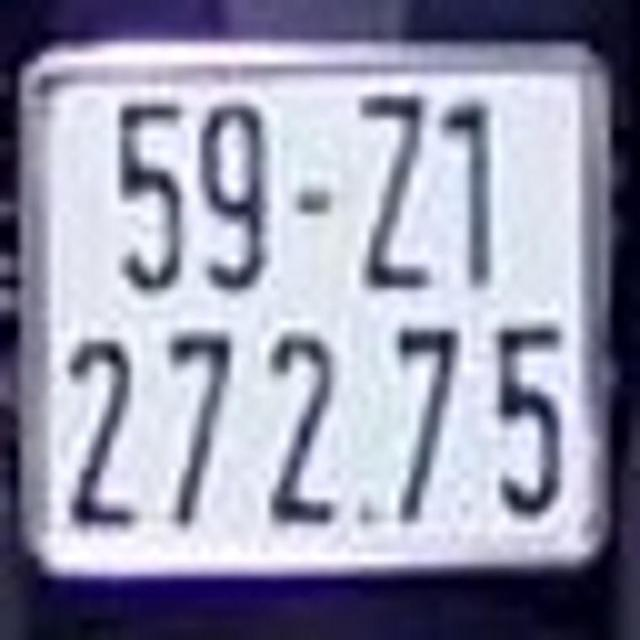1: (428, 82, 530, 285)
2: (259, 320, 346, 531), (58, 330, 146, 530)
5: (490, 305, 572, 529), (105, 73, 186, 290)
7: (381, 314, 474, 528), (157, 315, 238, 527)
9: (190, 91, 277, 292)
Z: (351, 83, 436, 296)
